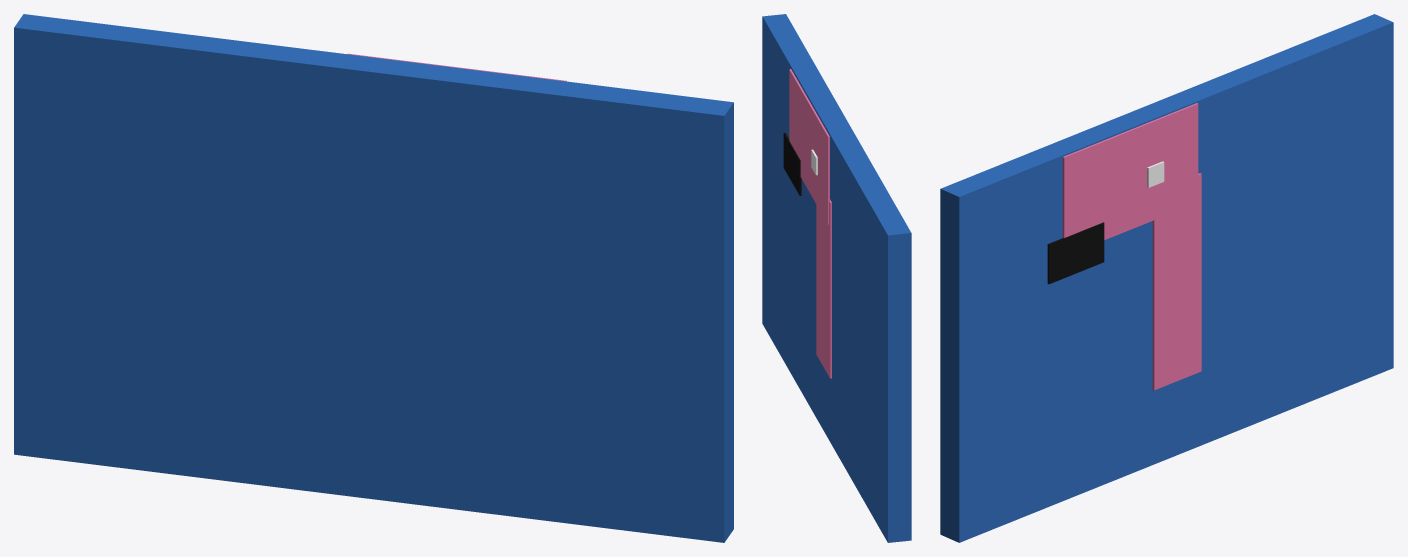
File: sn_flamingo.glb
3 views of the same model, side by side, from view 1: azimuth 30°, elevation 25°; view 2: azimuth 150°, elevation 25°; view 3: azimuth 270°, elevation 25° (orthographic). The views are drawn at different scales.
Parts seen in each view (by area): view 1: sn_flamingo_lod0; view 2: sn_flamingo_lod0; view 3: sn_flamingo_lod0.
Boxes of the visible parts, <box> form: sn_flamingo_lod0: <box>14,14,733,542</box>; sn_flamingo_lod0: <box>762,14,911,542</box>; sn_flamingo_lod0: <box>940,14,1393,542</box>.
Size of what is drawn, in the model's own units: 7.95 by 7 by 8.31.
